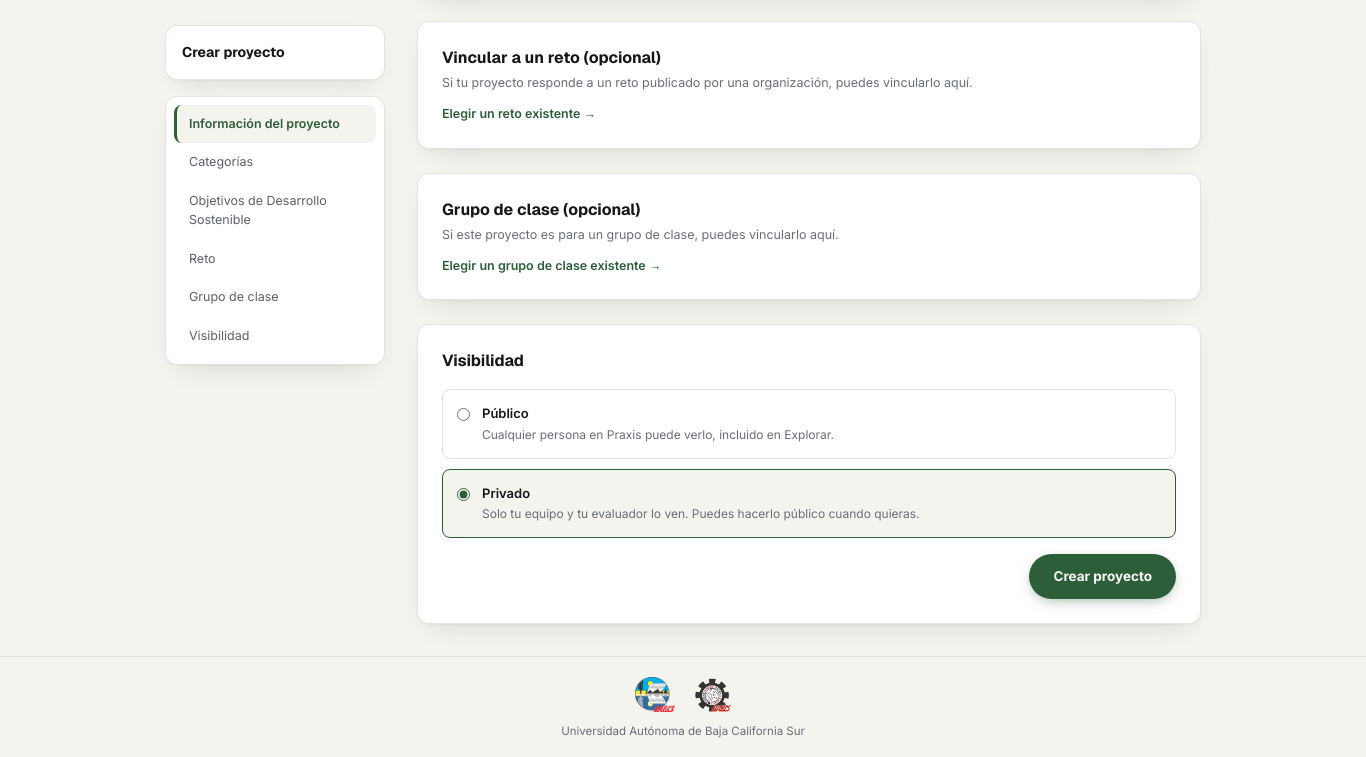
Test case: CreateProject — Zod validation › shows required-field errors and blocks submission when the form is empty
(page scrolled)
Step 1. Click the button "Crear proyecto" → [1103, 576], box [1030, 554, 1176, 599]
(page scrolled)
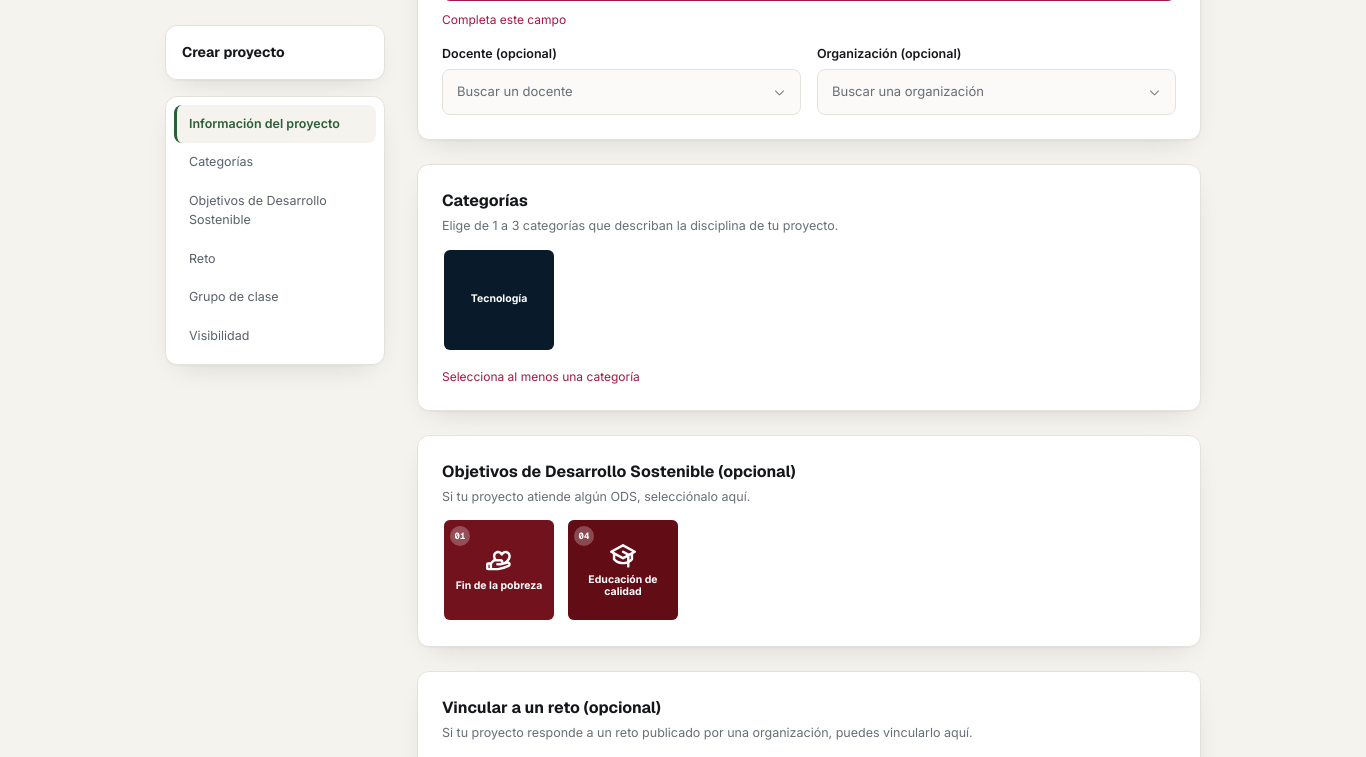
Result: the text "Selecciona al menos una categoría" is shown at [442, 368, 640, 384]
